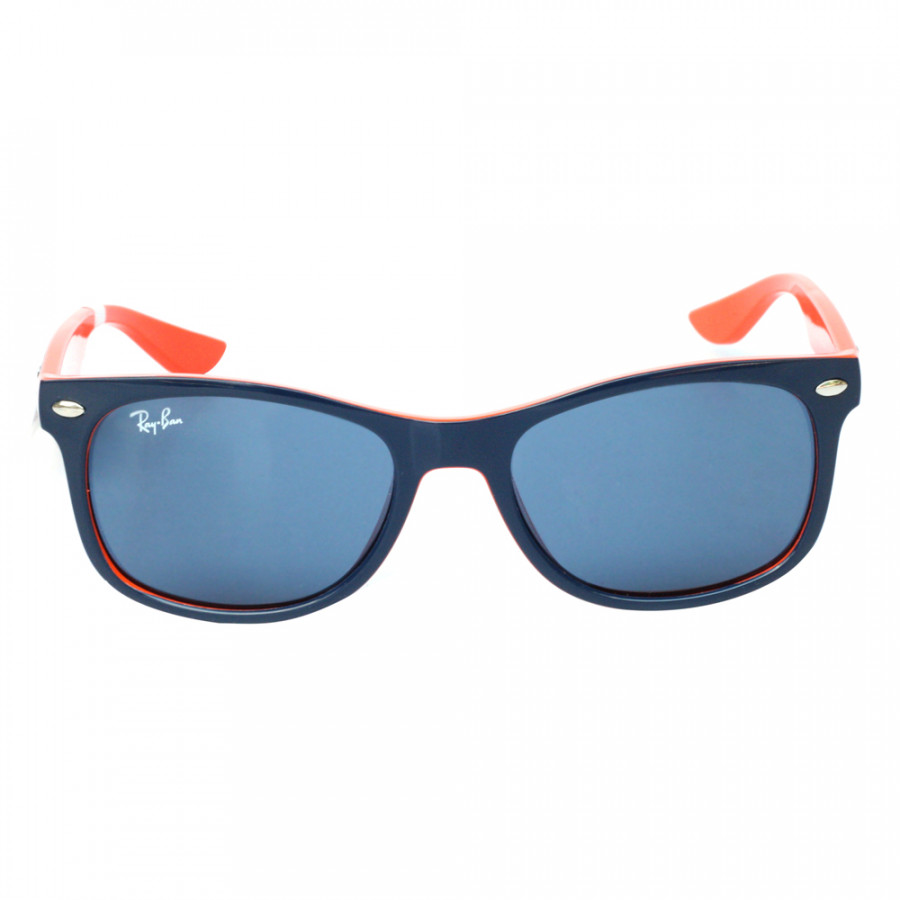Rayban: (123, 403, 193, 436)
